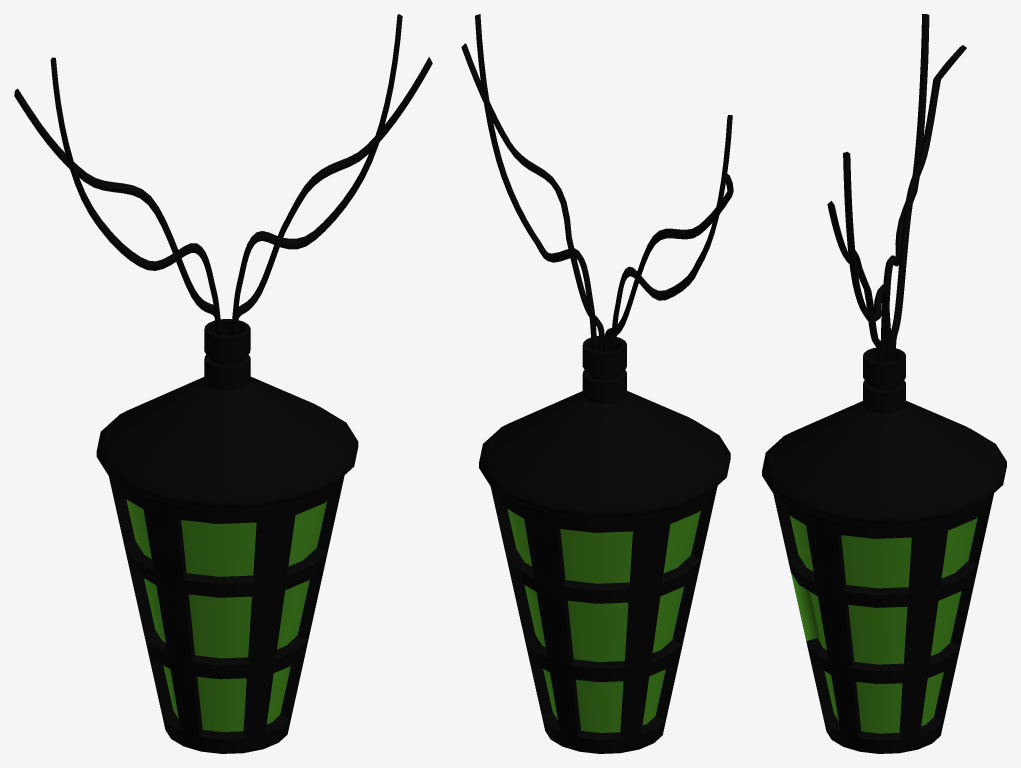
Rendered from Hanging_LanternV2.FBX.
3 views of the same model, side by side, from view 1: azimuth 30°, elevation 25°; view 2: azimuth 150°, elevation 25°; view 3: azimuth 270°, elevation 25° (orthographic). The views are drawn at different scales.
Parts seen in each view (by area): view 1: Cylinder130, Object002; view 2: Cylinder130, Object002; view 3: Cylinder130, Object002.
Part boxes in pixels (bbox=[...]): Cylinder130: bbox=[14, 14, 432, 753]; Object002: bbox=[126, 499, 326, 731]; Cylinder130: bbox=[461, 14, 733, 753]; Object002: bbox=[507, 509, 700, 732]; Cylinder130: bbox=[762, 14, 1006, 753]; Object002: bbox=[790, 516, 977, 733].
Size of the model in its own units: 240 by 465 by 157.
